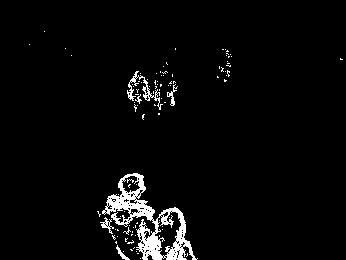person: (100, 172, 157, 259), (151, 61, 176, 115), (125, 67, 149, 118)
